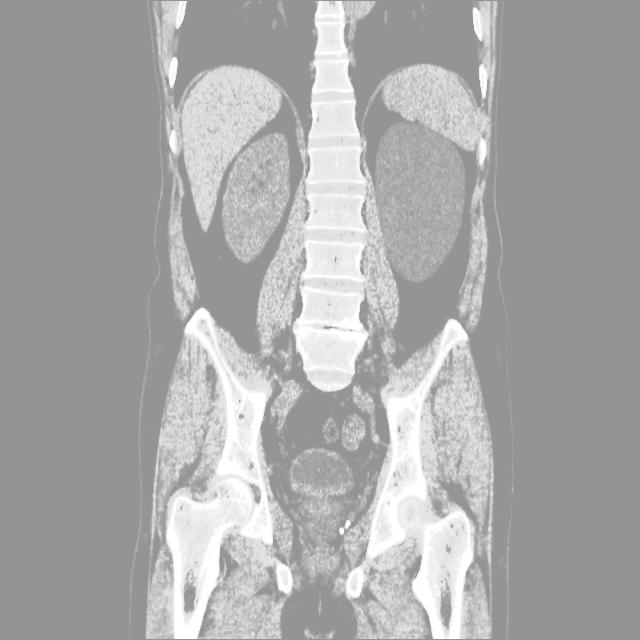cysts: (136, 3, 505, 637)
